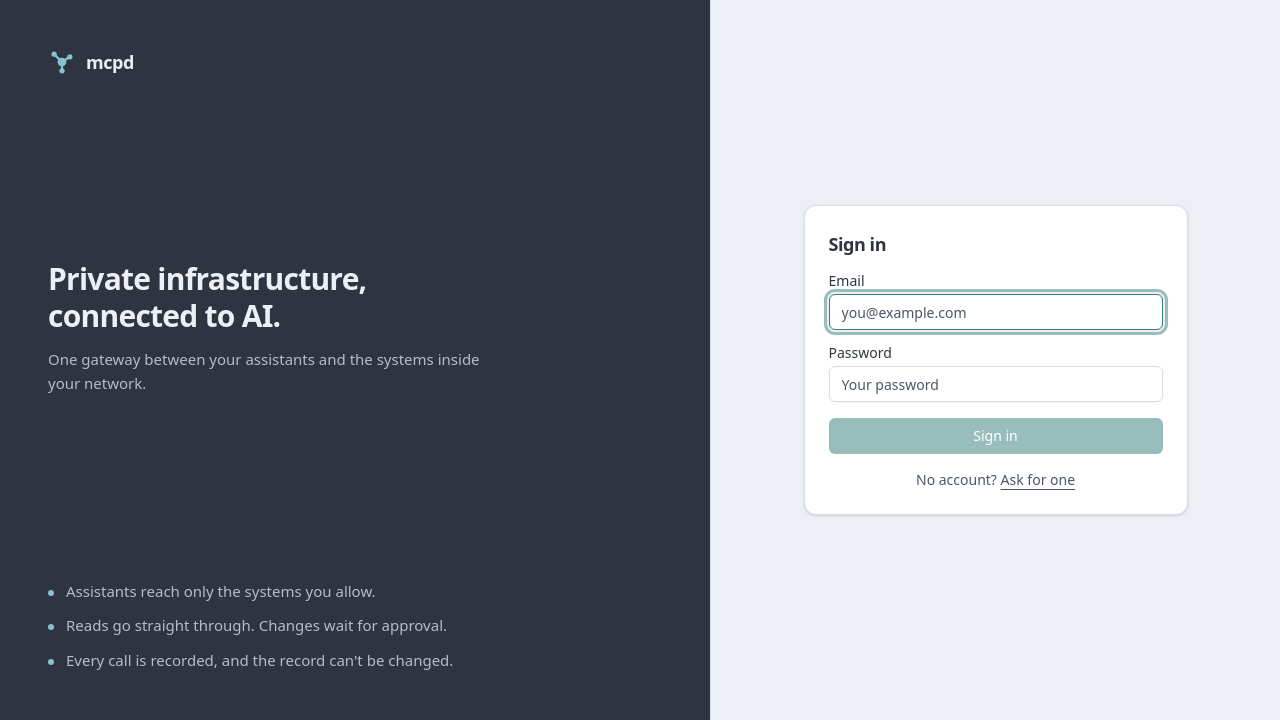
Test case: the sign-in screen › says an account will wait for an administrator
The width and height of the screenshot is (1280, 720).
Click the button "Ask for one". click: [1038, 480]
box: [1001,470,1075,490]
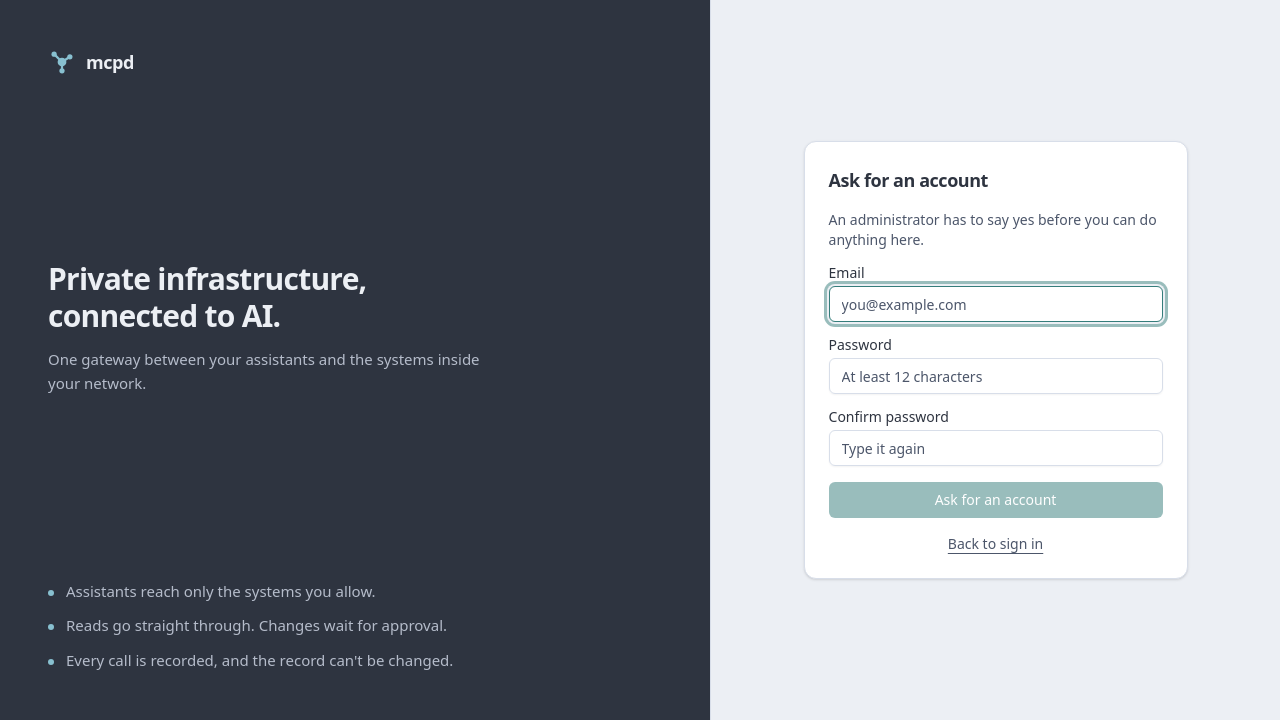
expect the heading "Ask for an account" is shown: met, box [828,168,988,192]
expect the text "administrator has to say yes" is shown: met, box [828,210,1157,249]
